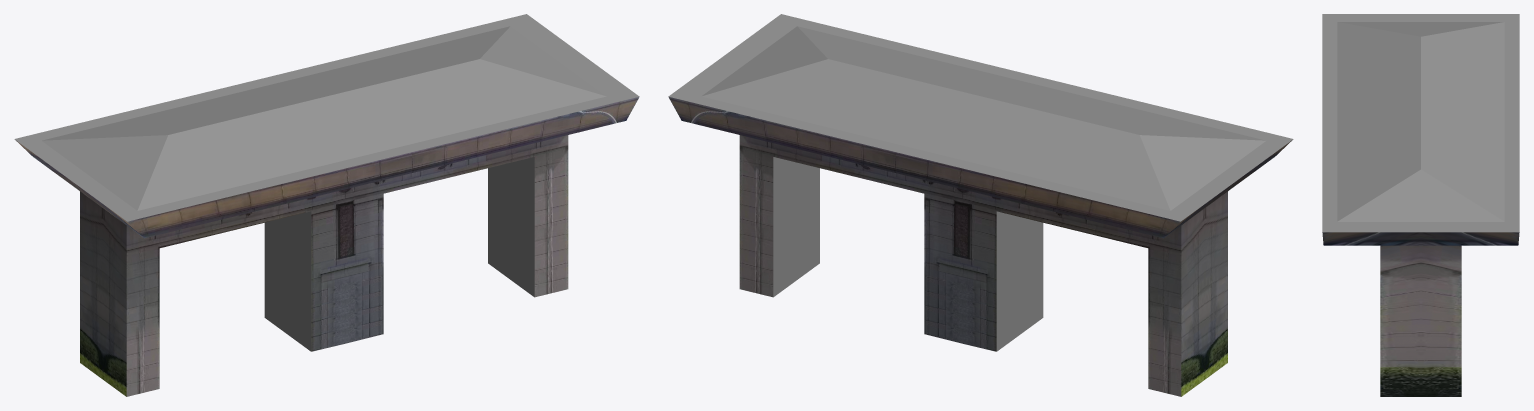
The model's file is Gate-1.FBX.
3 renders of one model, left to right at view 1: azimuth 30°, elevation 25°; view 2: azimuth 150°, elevation 25°; view 3: azimuth 270°, elevation 25°, orthographic. The views are drawn at different scales.
Parts seen in each view (by area): view 1: Box003; view 2: Box003; view 3: Box003.
Boxes of the visible parts, bbox=[...] form: Box003: bbox=[14, 14, 639, 396]; Box003: bbox=[668, 14, 1293, 396]; Box003: bbox=[1322, 14, 1519, 396].
Bounding box in the file's own units: 35.09 × 14.99 × 13.39.
